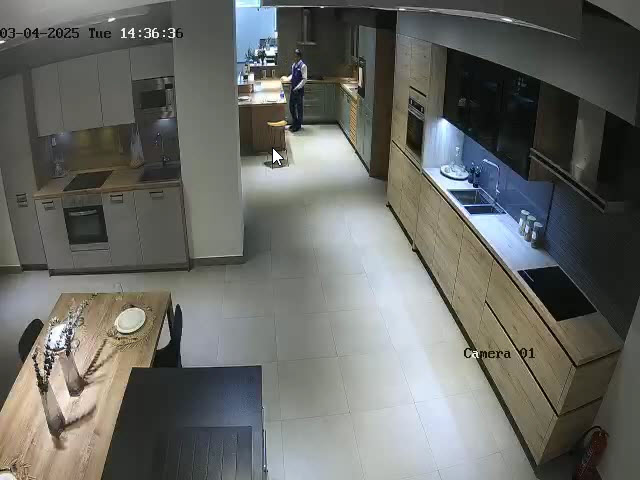employee: (280, 48, 307, 133)
